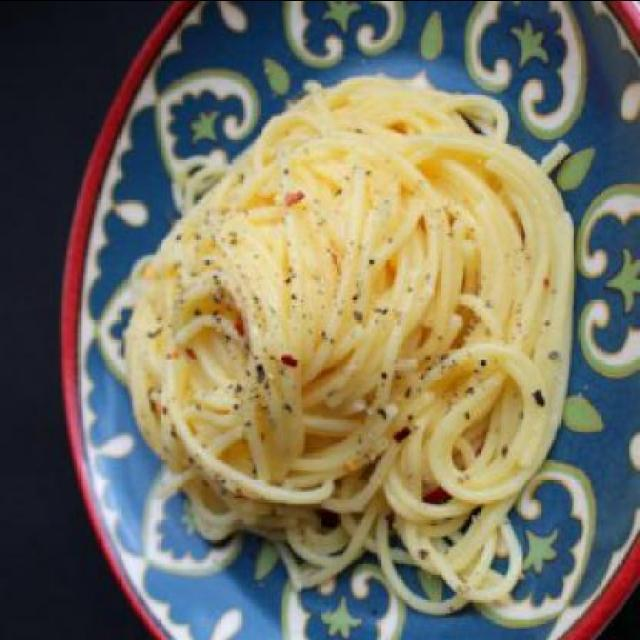Oil pasta: (100, 77, 600, 546)
